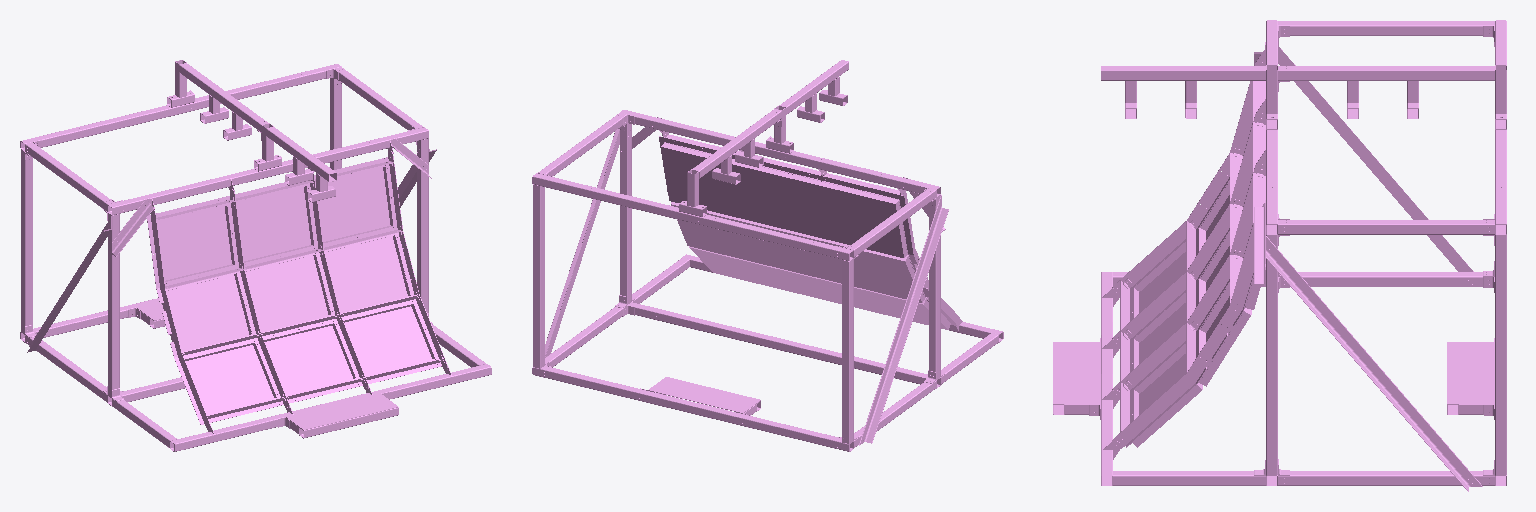
The robot description file, URDF, robot "tubestraight":
<?xml version="1.0" encoding="utf-8"?>
<!-- This URDF was automatically created by SolidWorks to URDF Exporter! Originally created by [author] ([email redacted]) 
     Commit Version: 1.6.0-1-g15f4949  Build Version: 1.6.7594.29634
     For more information, please see http://wiki.ros.org/sw_urdf_exporter -->
<robot
  name="tubestraight">
  <link
    name="base_link">
    <inertial>
      <origin
        xyz="1.25 -0.00098688 0.62711"
        rpy="0 0 0" />
      <mass
        value="106.93" />
      <inertia
        ixx="78.399"
        ixy="3.0113E-13"
        ixz="-7.3168E-14"
        iyy="69.372"
        iyz="-0.066809"
        izz="120.41" />
    </inertial>
    <visual>
      <origin
        xyz="0 0 0"
        rpy="0 0 0" />
      <geometry>
        <mesh
          filename="package://tubestraight/meshes/base_link.STL" />
      </geometry>
      <material
        name="">
        <color
          rgba="1 0.75294 1 1" />
      </material>
    </visual>
    <collision>
      <origin
        xyz="0 0 0"
        rpy="0 0 0" />
      <geometry>
        <mesh
          filename="package://tubestraight/meshes/base_link.STL" />
      </geometry>
    </collision>
  </link>
</robot>

--- What the picture shows (computed from the rendered views, not written in the file) ---
The picture shows the robot from 3 angles, left to right: view 1: azimuth 30°, elevation 25°; view 2: azimuth 150°, elevation 25°; view 3: azimuth 270°, elevation 25°; orthographic projection.
Robot: tubestraight — 1 links, 0 joints (none); root link base_link; default pose: every joint at zero.
Links seen in each view (by area): view 1: base_link; view 2: base_link; view 3: base_link.
Boxes of the visible links, x1=… form: base_link: x1=20, y1=60, x2=491, y2=451; base_link: x1=532, y1=60, x2=1003, y2=451; base_link: x1=1053, y1=20, x2=1506, y2=491.
Size in the robot's own frame: 4.2 by 3.77 by 2.9 metres.
Meshes: 1 distinct files referenced, 1 mesh visuals loaded (1 binary STL).